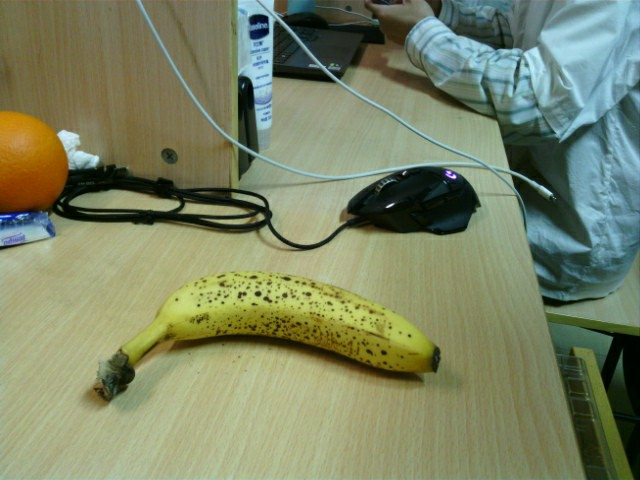normal_banana: (96, 272, 443, 405)
normal_orange: (1, 111, 68, 207)
